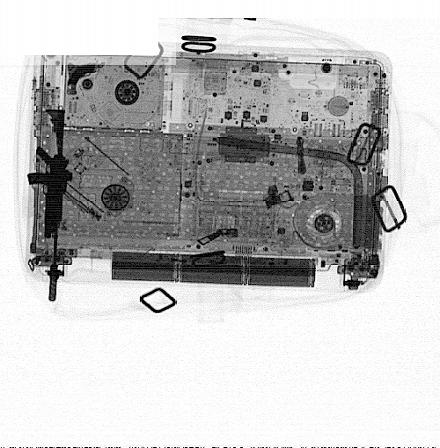Gun: (26, 106, 75, 303)
